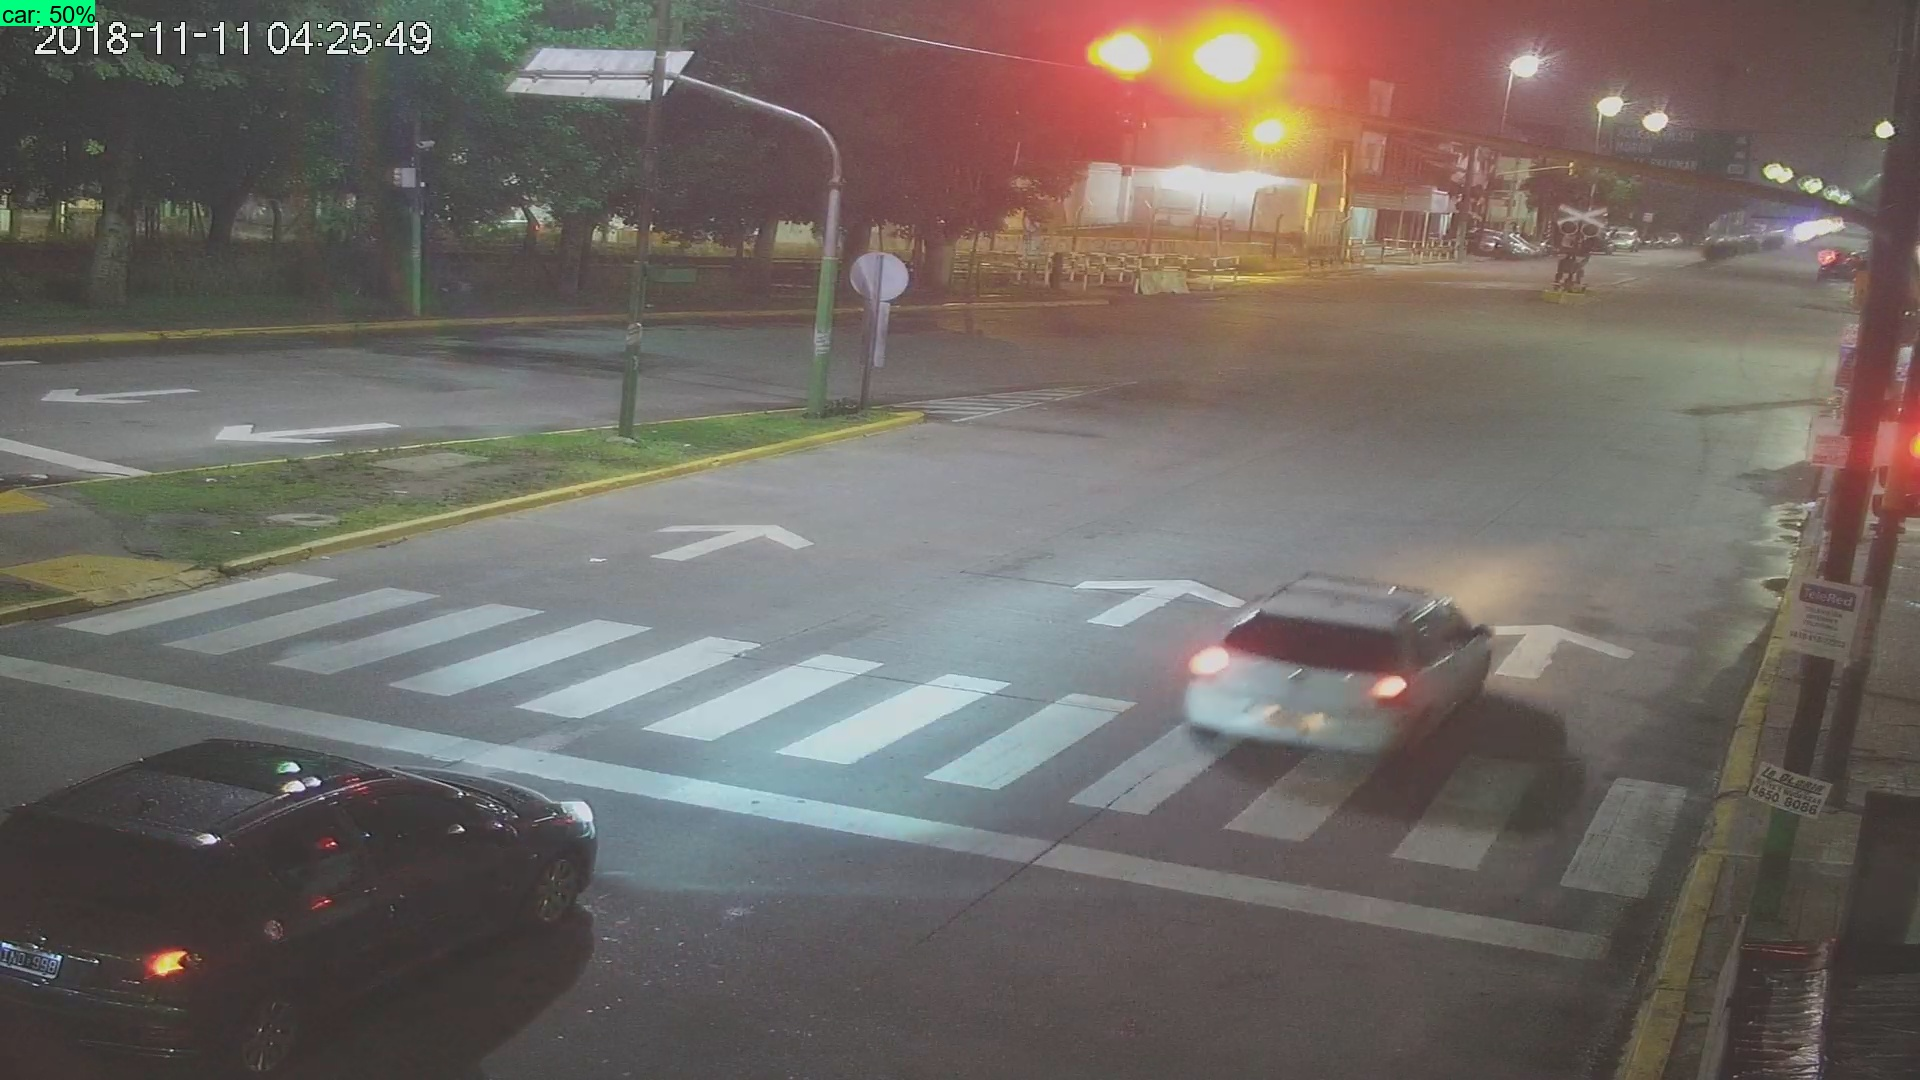car: (1, 717, 613, 1080), (1170, 588, 1495, 771)
